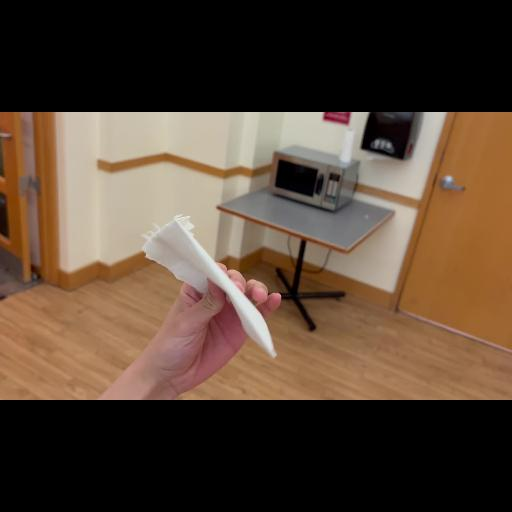napkin: (130, 207, 320, 365)
